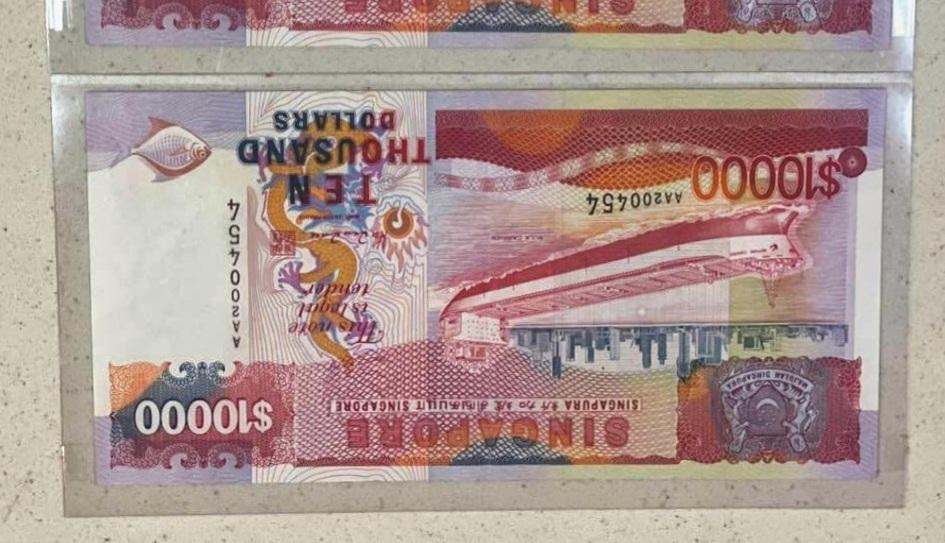10000SingaporeDollar: (93, 91, 880, 480)
